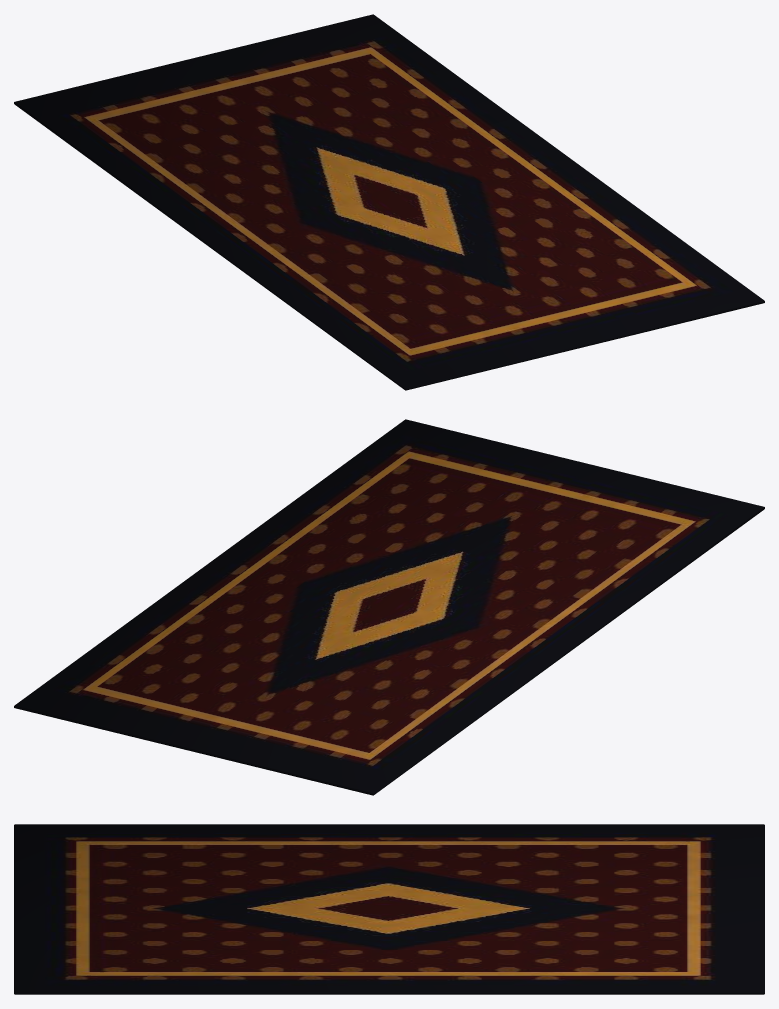
The model's file is rug.glb.
3 views of the same model, one above another, from view 1: azimuth 30°, elevation 25°; view 2: azimuth 150°, elevation 25°; view 3: azimuth 270°, elevation 25° (orthographic). The views are drawn at different scales.
Parts seen in each view (by area): view 1: Rug; view 2: Rug; view 3: Rug.
Part boxes in pixels (x1=…): Rug: x1=14, y1=14, x2=764, y2=390; Rug: x1=14, y1=419, x2=764, y2=795; Rug: x1=14, y1=824, x2=764, y2=994.
Bounding box in the file's own units: 1.75 × 0.012 × 3.3.
1 material, 1 textured.
